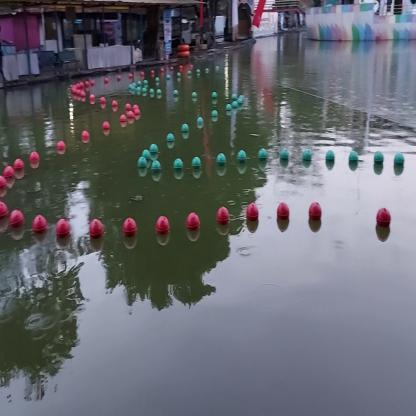green_buoy: (152, 156, 164, 181), (347, 145, 358, 170), (392, 153, 404, 175), (138, 152, 148, 176), (173, 158, 184, 179), (302, 149, 312, 172), (192, 155, 202, 177), (324, 150, 335, 169), (237, 151, 247, 170), (148, 142, 158, 160), (258, 147, 267, 167), (373, 152, 383, 170), (214, 155, 226, 170), (280, 150, 288, 166), (166, 134, 175, 148), (184, 120, 191, 137)
red_buoy: (86, 220, 106, 249), (376, 202, 393, 236), (32, 212, 46, 246), (56, 218, 71, 249), (123, 213, 139, 242), (12, 209, 26, 240), (245, 203, 261, 229), (276, 203, 289, 233), (156, 217, 170, 244), (218, 207, 230, 237), (186, 216, 200, 240), (0, 203, 10, 236), (309, 202, 321, 228), (13, 158, 25, 179), (28, 151, 42, 168), (5, 166, 16, 184), (55, 138, 67, 154), (81, 128, 90, 145), (101, 118, 110, 134), (120, 115, 127, 130)
